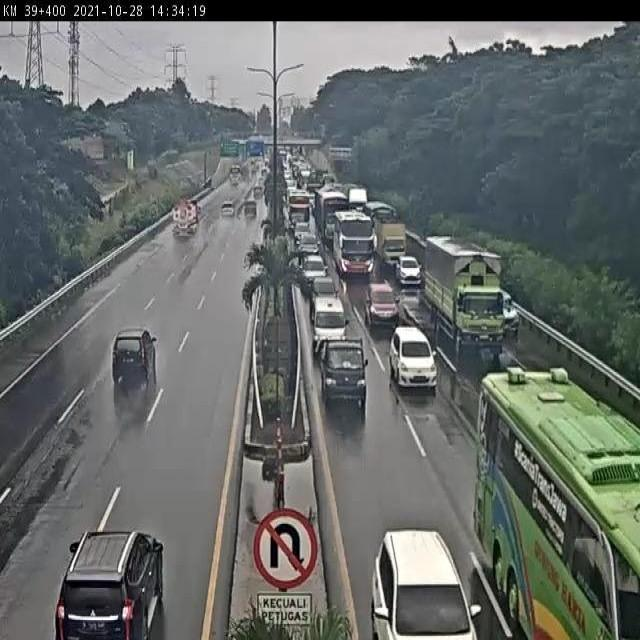big bus: (473, 365, 640, 640), (332, 209, 376, 279), (287, 188, 313, 228)
big truck: (424, 234, 505, 358), (319, 194, 352, 247), (168, 195, 203, 241), (379, 219, 407, 269)
car: (55, 533, 166, 640), (372, 526, 475, 640), (319, 338, 368, 410), (390, 325, 439, 396), (109, 327, 157, 384), (311, 296, 346, 353), (363, 281, 401, 328), (396, 255, 424, 288), (501, 292, 522, 333), (302, 255, 327, 289), (311, 274, 336, 298), (293, 220, 315, 243), (298, 233, 321, 255)
